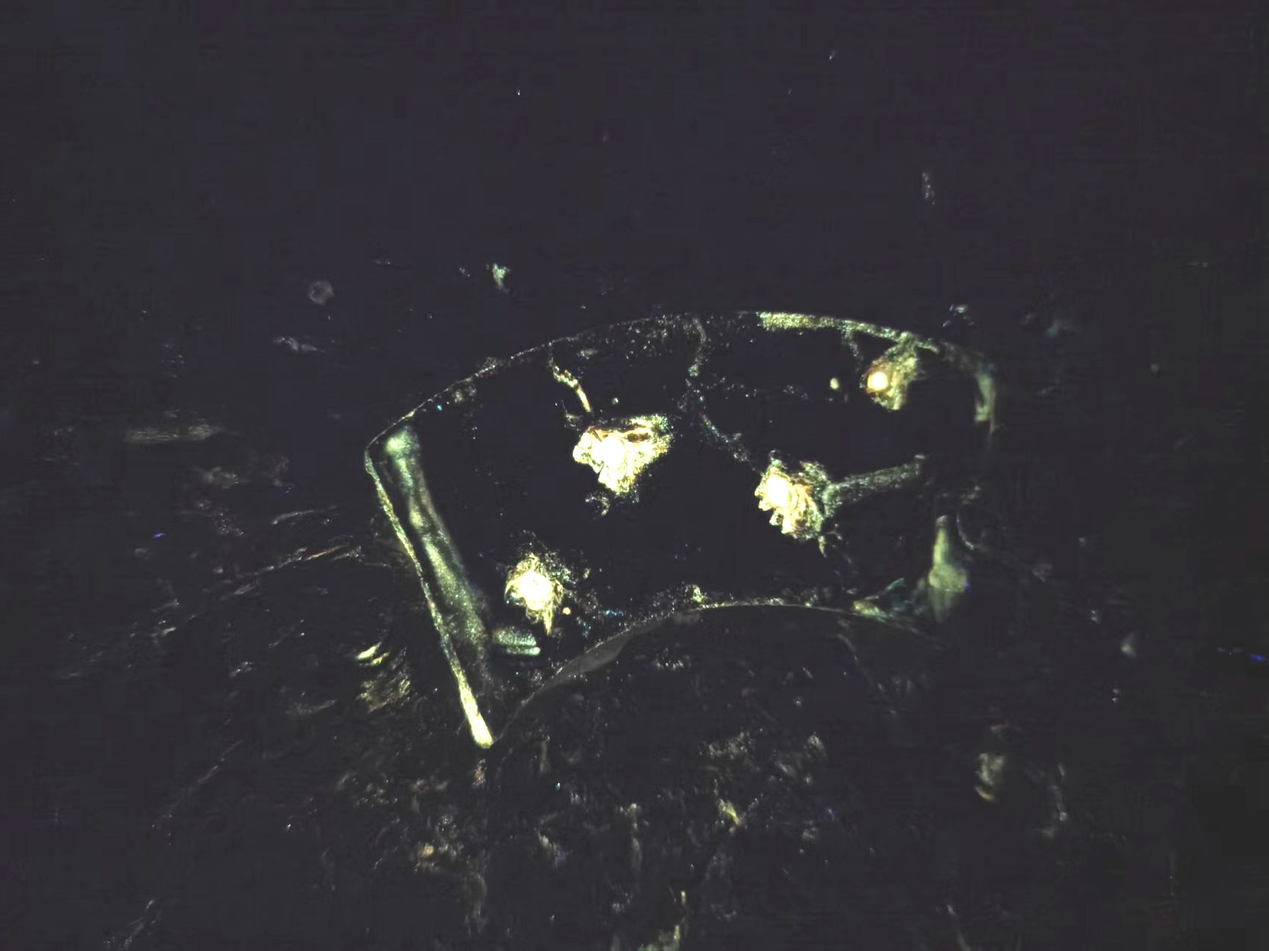Crater: (722, 452, 874, 570), (552, 395, 694, 499), (484, 538, 594, 654), (845, 339, 937, 423)
